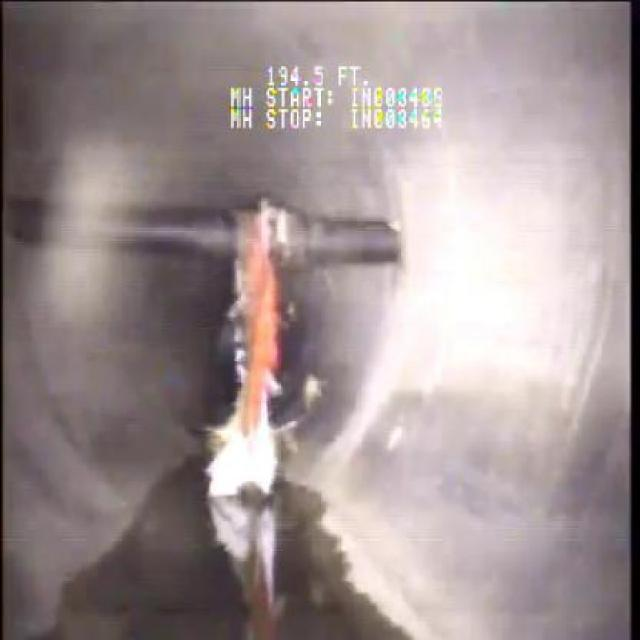Utility intrusion: (8, 192, 404, 272)
